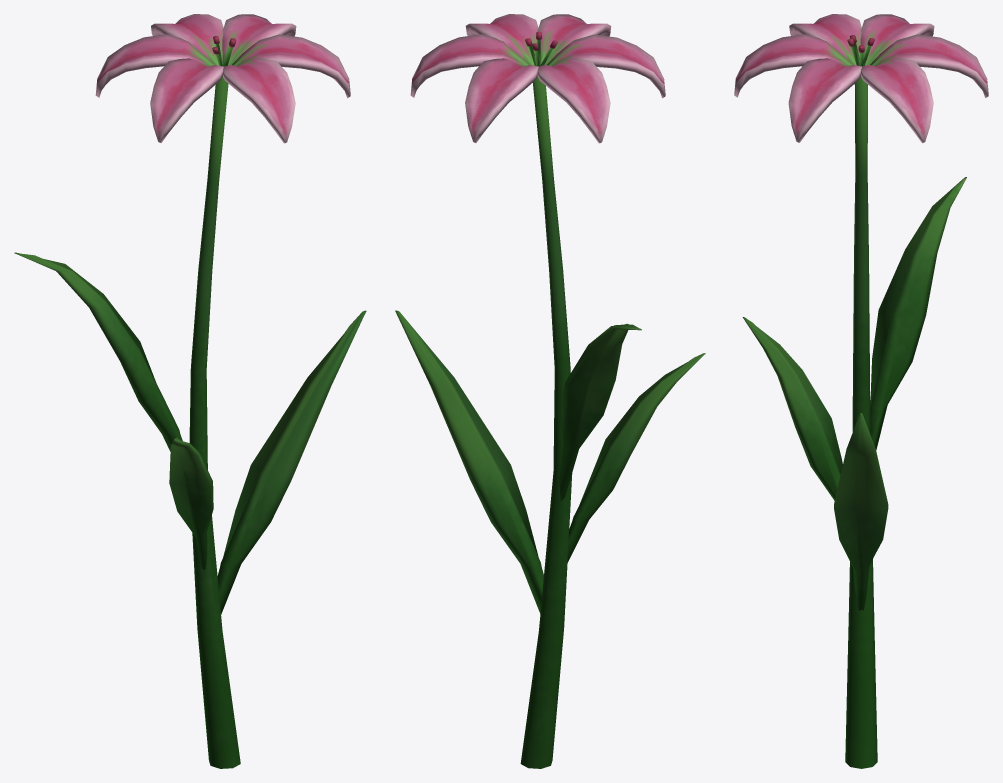
File: Lirio.fbx
3 views of the same model, side by side, from view 1: azimuth 30°, elevation 25°; view 2: azimuth 150°, elevation 25°; view 3: azimuth 270°, elevation 25° (orthographic).
Visible parts, largest first — view 1: Lirio; view 2: Lirio; view 3: Lirio.
Part boxes in pixels (x1=…): Lirio: x1=14, y1=14, x2=366, y2=768; Lirio: x1=395, y1=14, x2=705, y2=768; Lirio: x1=734, y1=14, x2=988, y2=768.
Bounding box in the file's own units: 182 × 421 × 134.
